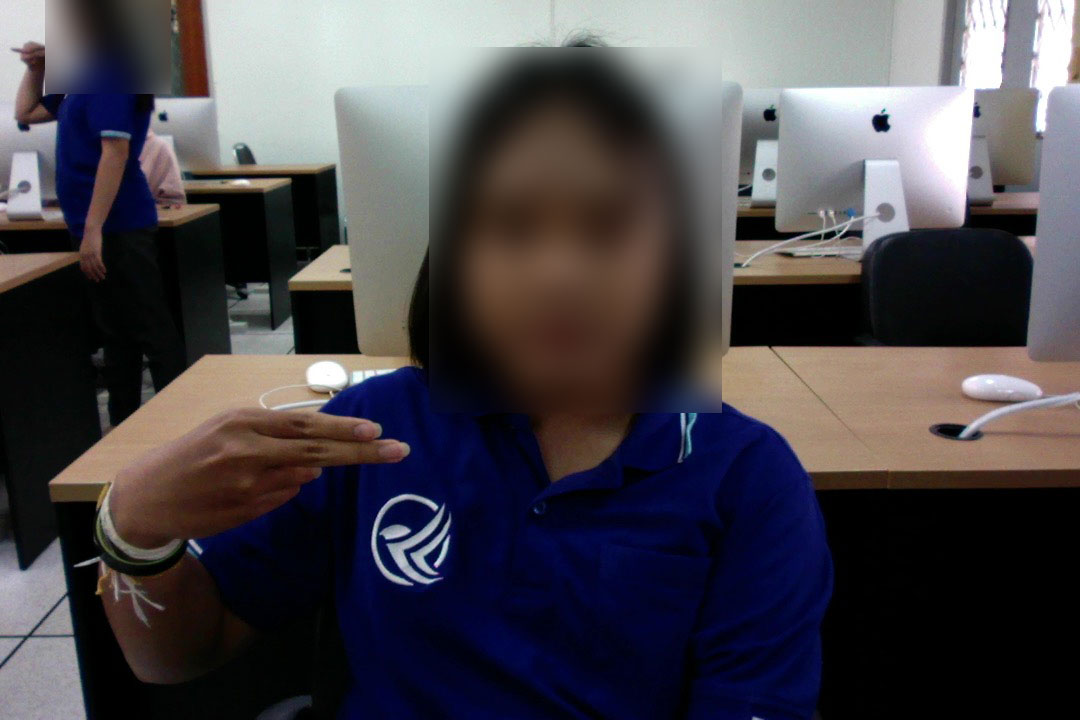hor: (123, 403, 414, 555)
